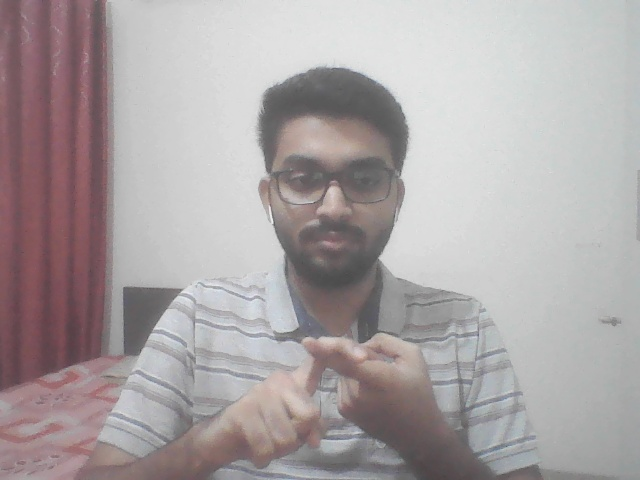friend: (176, 309, 473, 474)
